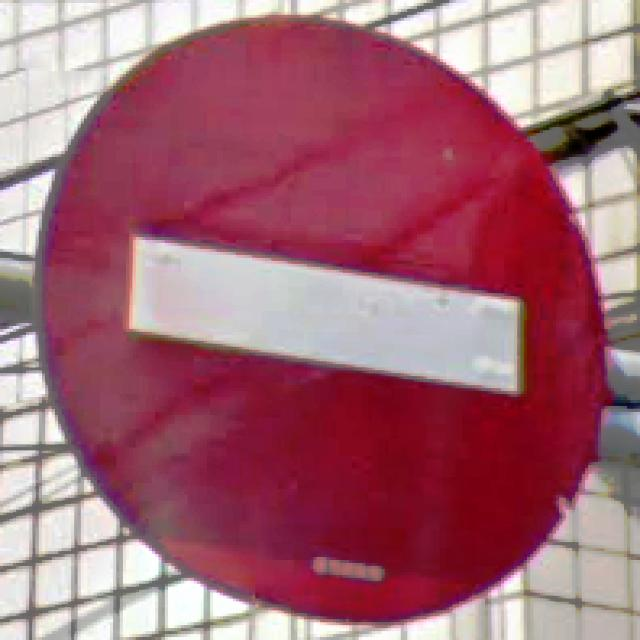noentry: (41, 18, 607, 622)
